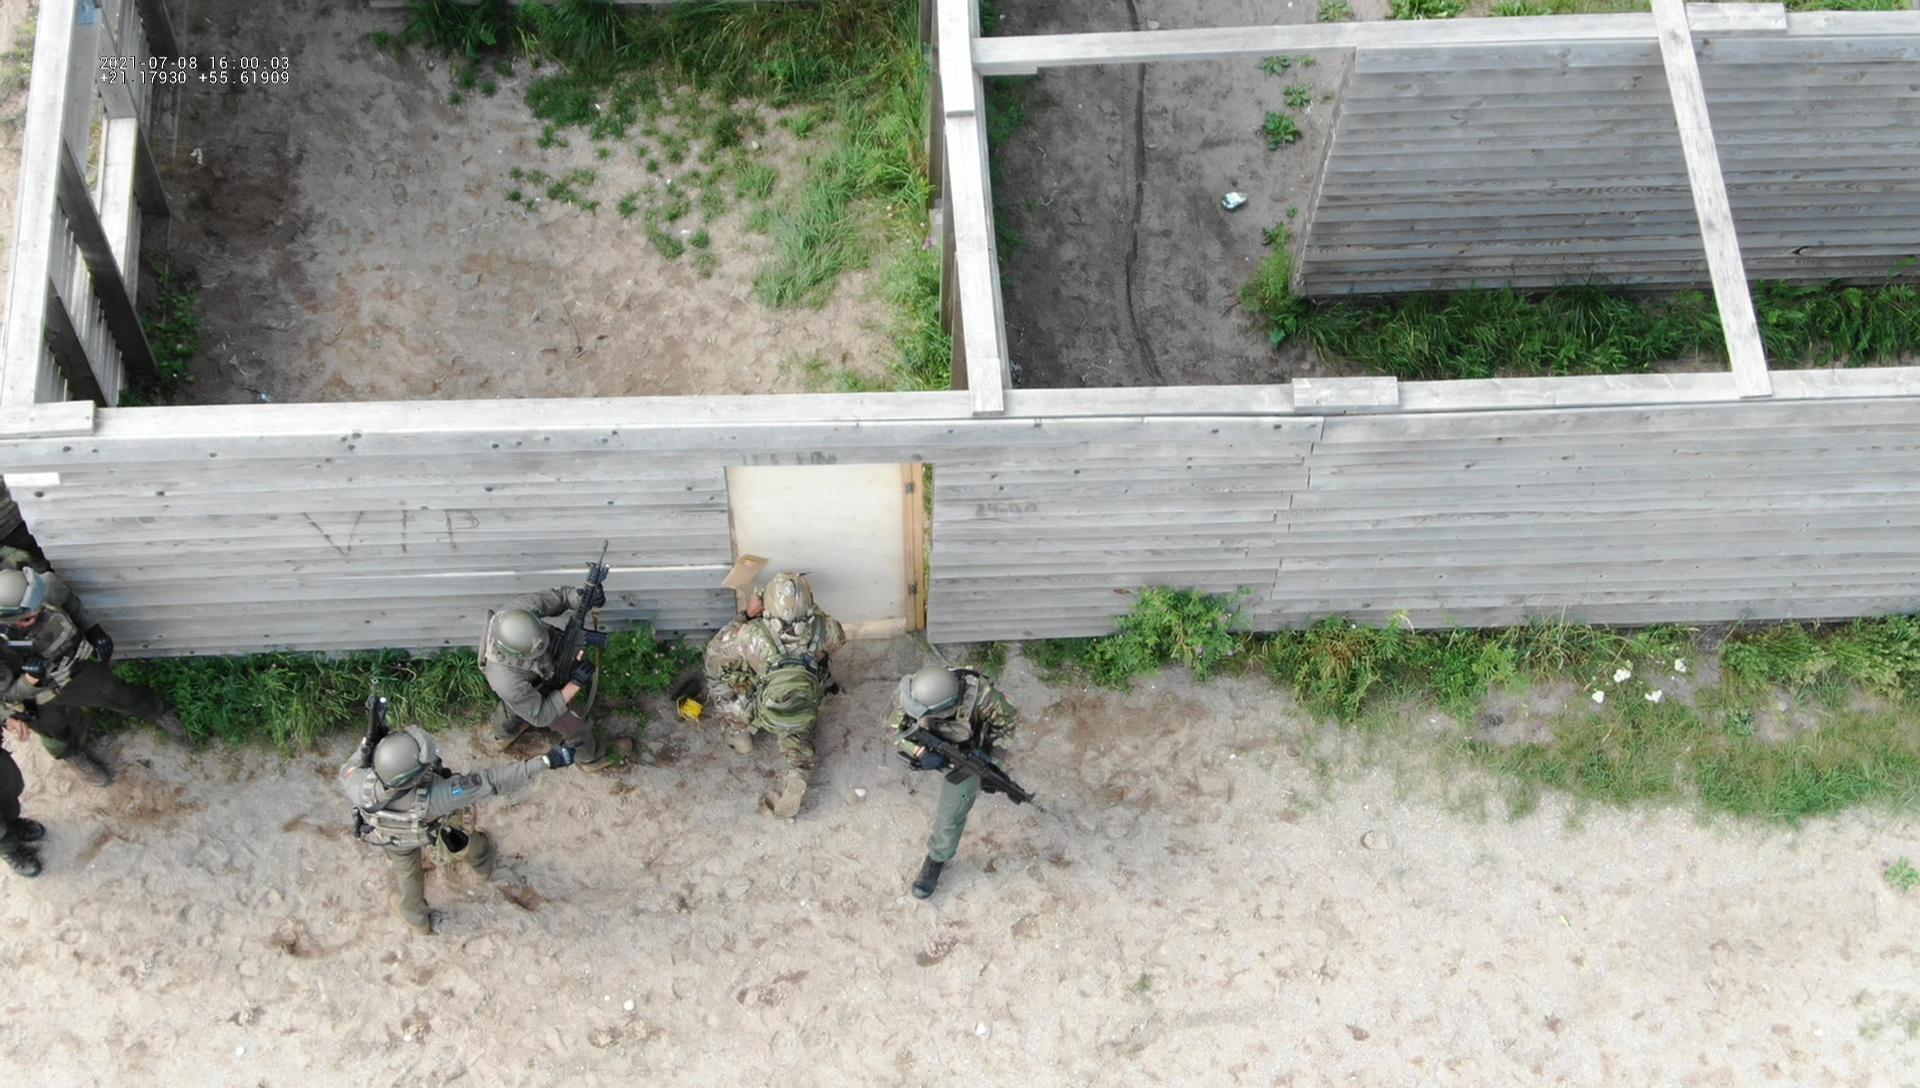Soldier: (336, 677, 571, 939), (866, 640, 1085, 861), (695, 564, 878, 806), (12, 533, 152, 811), (495, 528, 645, 770)
